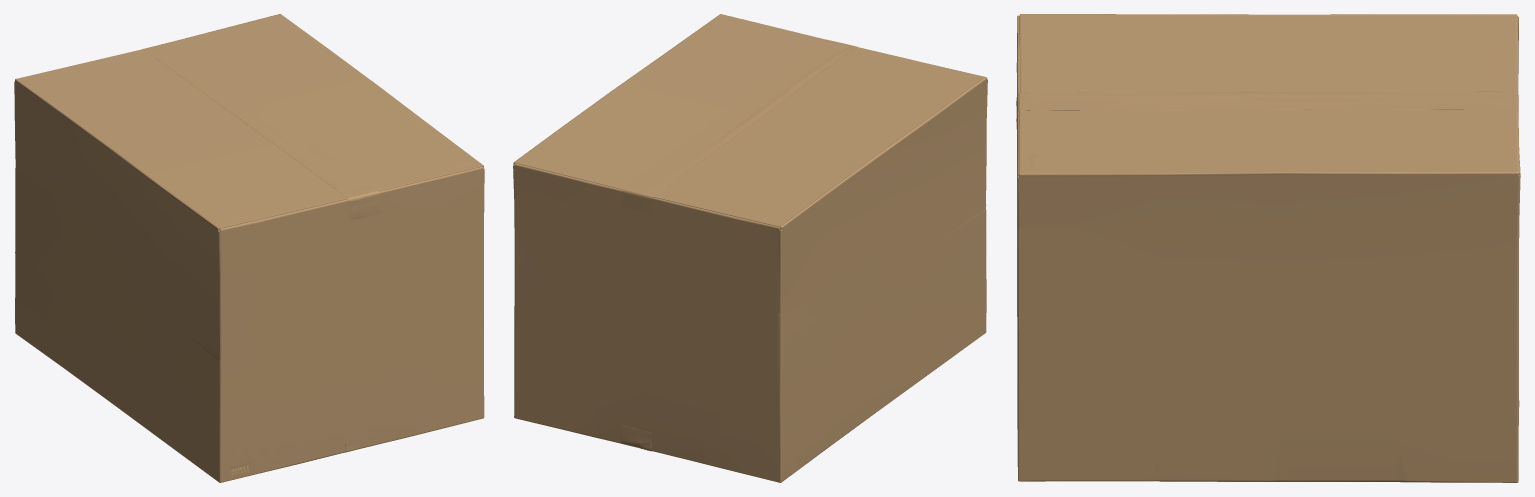
The model's file is box_corrugated_white_a36.glb.
3 views of the same model, side by side, from view 1: azimuth 30°, elevation 25°; view 2: azimuth 150°, elevation 25°; view 3: azimuth 270°, elevation 25° (orthographic). The views are drawn at different scales.
Bounding box in the file's own units: 0.2221 × 0.2032 × 0.2972.
